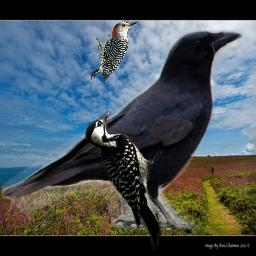Crow: (1, 30, 243, 230)
Woodpecker: (84, 109, 161, 251), (91, 21, 139, 81)
